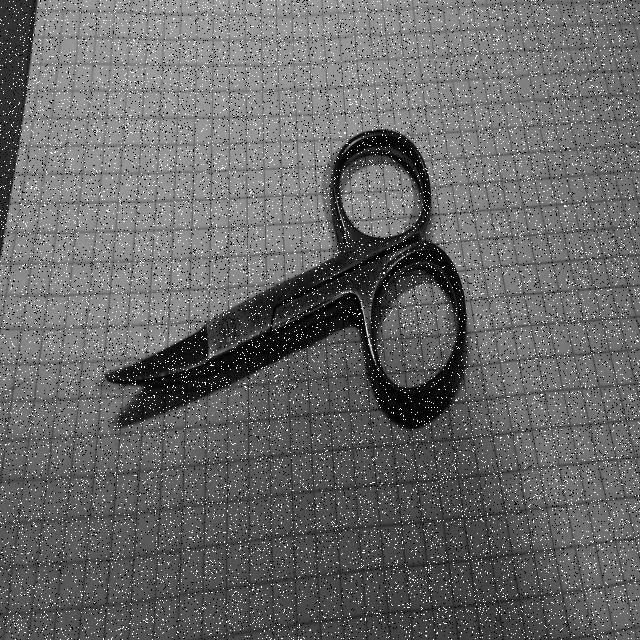scissors: (100, 119, 470, 437)
